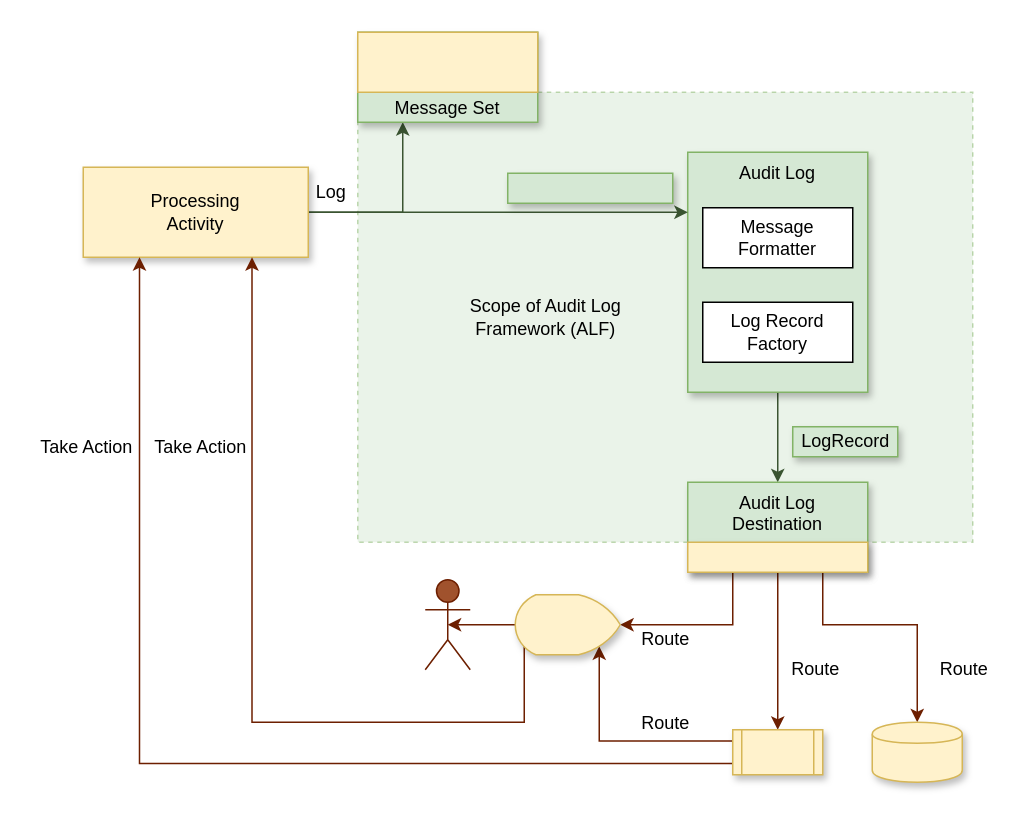
Image size: 1026x819. Some labels were removed from this diagram. Each missing label, with the centre of its shape:
Analyze: the point at 778,753
Decide: the point at 568,626
MessageDefinition: the point at 591,190
Store: the point at 918,754
